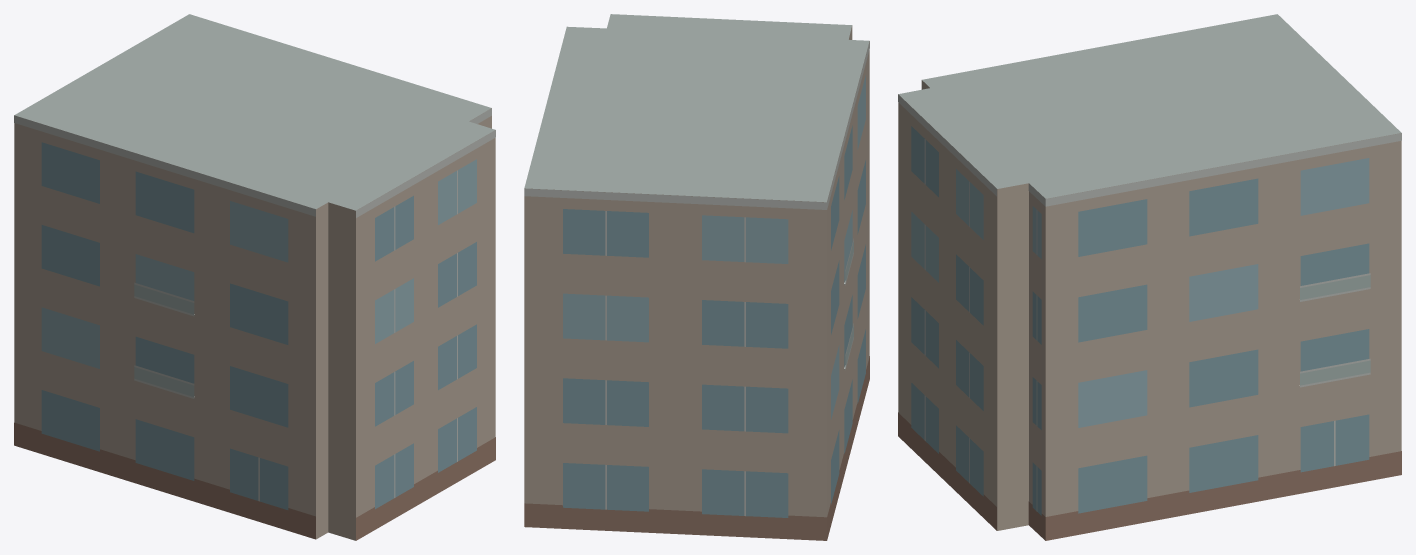
Rendered from survey-upis-32730943.glb.
The picture shows the model from 3 angles, left to right: view 1: azimuth 30°, elevation 25°; view 2: azimuth 150°, elevation 25°; view 3: azimuth 270°, elevation 25°; orthographic projection. The views are drawn at different scales.
Visible parts, largest first — view 1: survey-upis-32730943.tmp; view 2: survey-upis-32730943.tmp; view 3: survey-upis-32730943.tmp.
Boxes of the visible parts, x1,y1,x2,y2 form: survey-upis-32730943.tmp: (14,14,495,540); survey-upis-32730943.tmp: (524,14,869,540); survey-upis-32730943.tmp: (898,14,1401,540).
Bounding box in the file's own units: 12.29 × 10.6 × 14.16.
